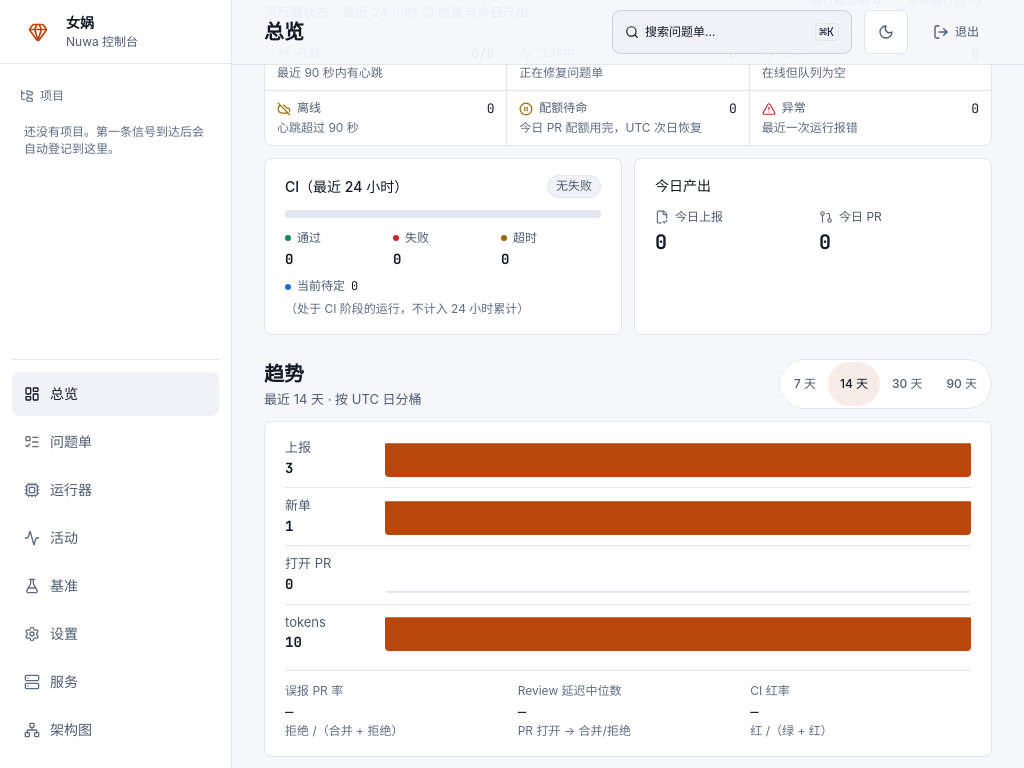
it: OverviewPage › refetches trends for the selected range
(page scrolled)
Expected: the text "最近 14 天 · 按 UTC 日分桶" is shown, left=264, top=390, right=422, bottom=409
Click the button "30 天".
click(907, 384)  # box left=880, top=362, right=934, bottom=406
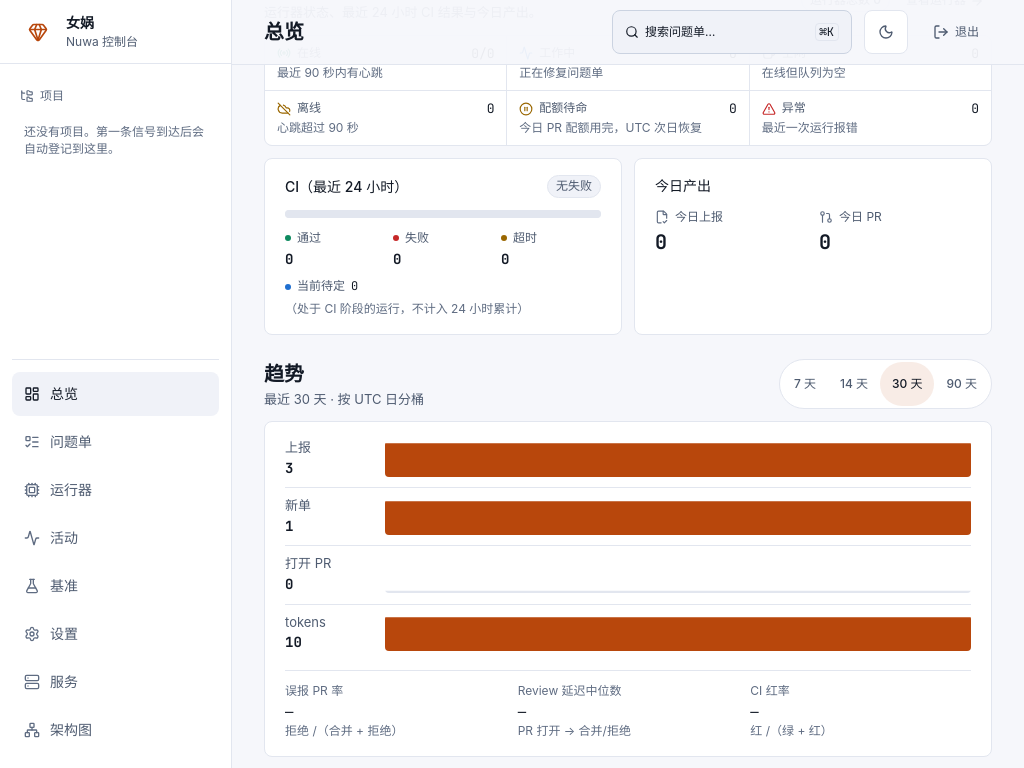
Expected: the text "最近 30 天 · 按 UTC 日分桶" is shown, left=264, top=390, right=424, bottom=409
